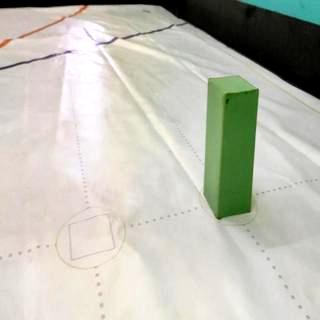greenbox: (203, 73, 260, 222)
